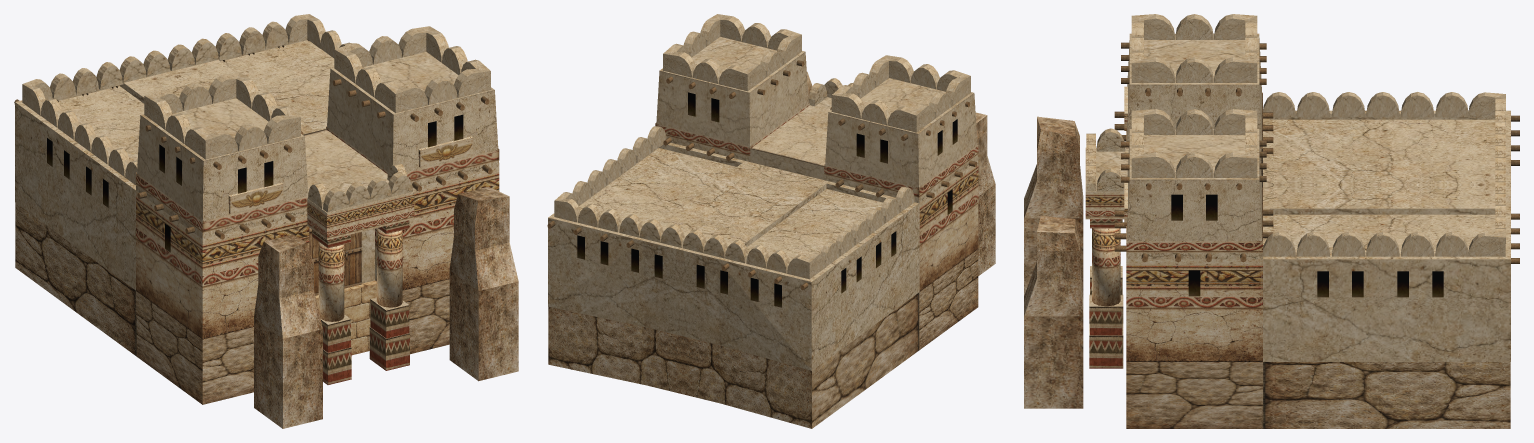
Rendered from temple.dae.
3 renders of one model, left to right at view 1: azimuth 30°, elevation 25°; view 2: azimuth 150°, elevation 25°; view 3: azimuth 270°, elevation 25°, orthographic. The views are drawn at different scales.
Visible parts, largest first — view 1: temple; view 2: temple; view 3: temple.
Boxes of the visible parts, x1,y1,x2,y2 form: temple: (14, 14, 518, 428); temple: (547, 14, 995, 428); temple: (1024, 14, 1519, 428).
Bounding box in the file's own units: 26.75 × 36.11 × 21.65.
